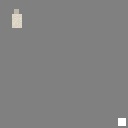supply_truck: (12, 14, 22, 28)
